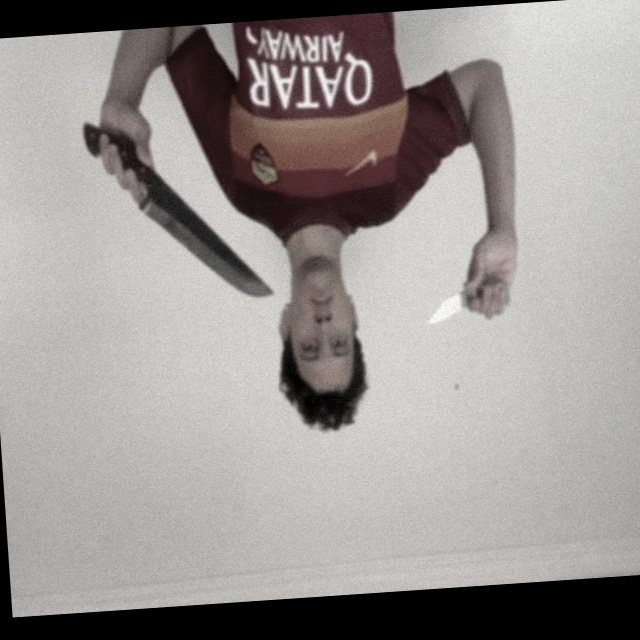Sharp-Object: (138, 195, 275, 306), (424, 292, 465, 323)
